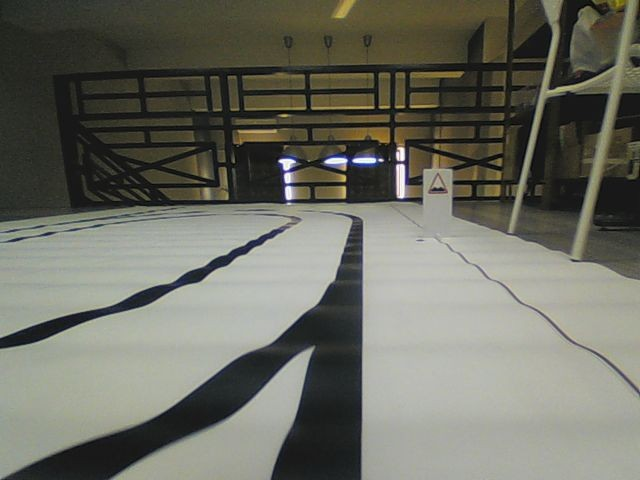Nerov: (427, 172, 449, 195)
